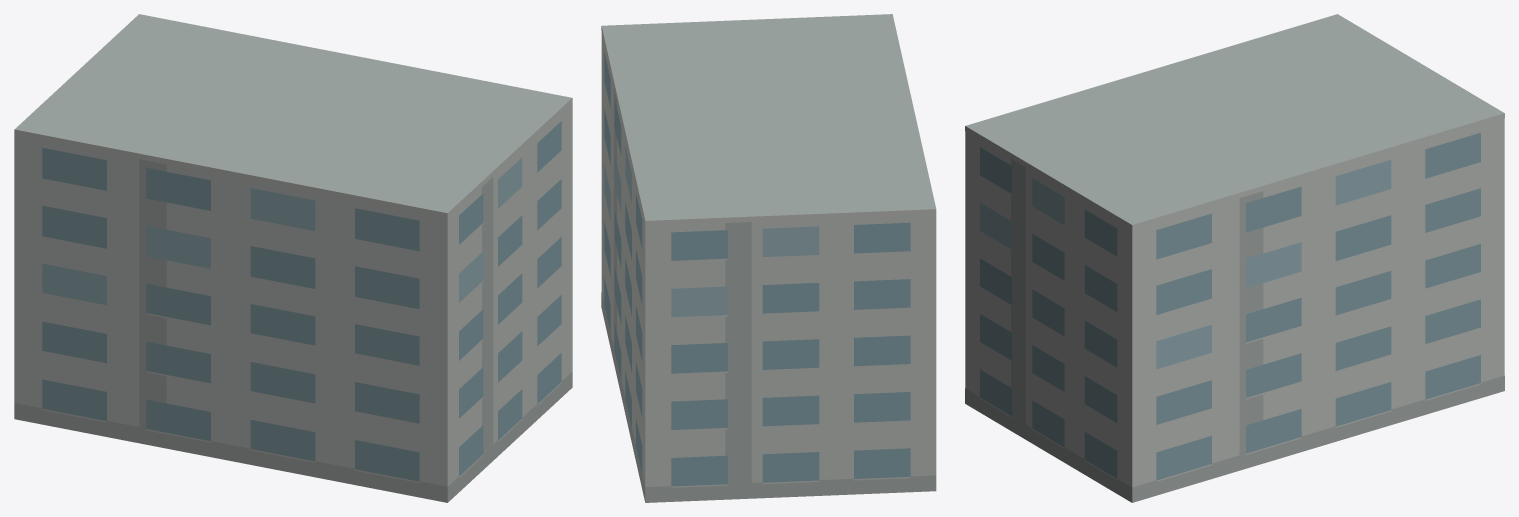
File: survey-upis-32811884.glb
3 views of the same model, side by side, from view 1: azimuth 30°, elevation 25°; view 2: azimuth 150°, elevation 25°; view 3: azimuth 270°, elevation 25° (orthographic). The views are drawn at different scales.
Parts seen in each view (by area): view 1: survey-upis-32811884.tmp; view 2: survey-upis-32811884.tmp; view 3: survey-upis-32811884.tmp.
Boxes of the visible parts, box(x1,y1,x2,y2) form: survey-upis-32811884.tmp: box(14, 14, 572, 502); survey-upis-32811884.tmp: box(601, 14, 936, 502); survey-upis-32811884.tmp: box(965, 14, 1504, 502).
Bounding box in the file's own units: 20.78 × 12.75 × 22.45.
